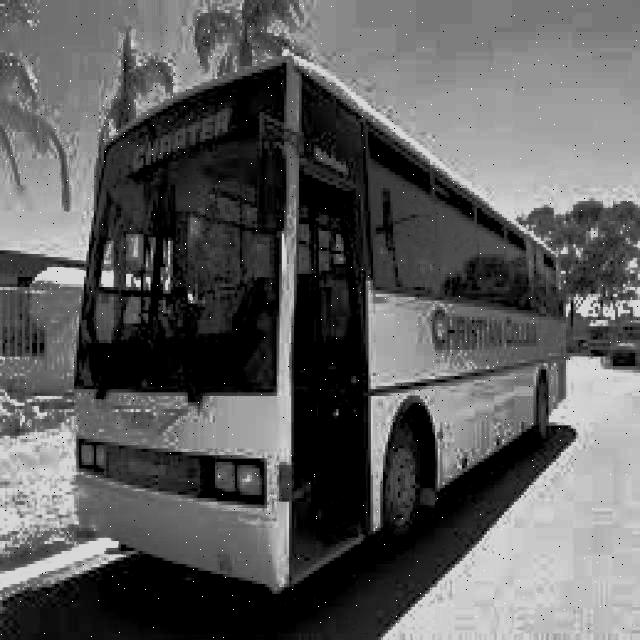Bus: (41, 19, 592, 606)
